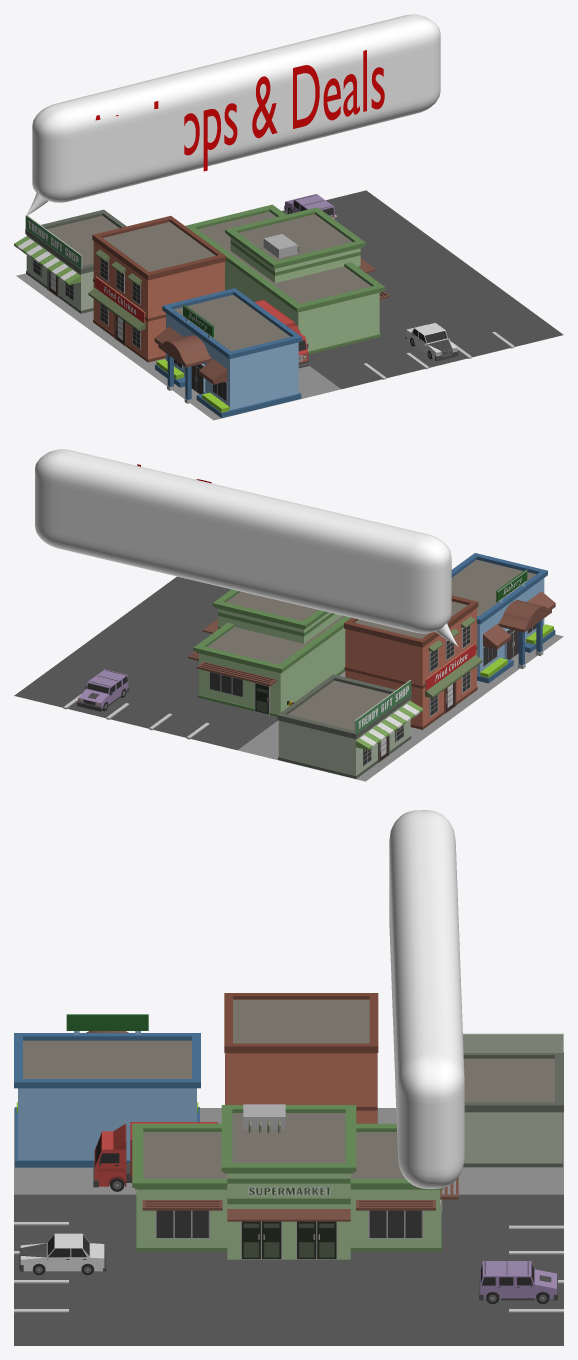
Rendered from supermarket1.glb.
3 renders of one model, top to bottom at view 1: azimuth 30°, elevation 25°; view 2: azimuth 150°, elevation 25°; view 3: azimuth 270°, elevation 25°, orthographic. The views are drawn at different scales.
Parts seen in each view (by area): view 1: Building_Chicken Shop_Cube.016, Mesh_0, text; view 2: Building_Chicken Shop_Cube.016, Mesh_0; view 3: Building_Chicken Shop_Cube.016, Mesh_0.
Part boxes in pixels (left/top/right/bottom): Building_Chicken Shop_Cube.016: left=14, top=190, right=563, bottom=420; Mesh_0: left=26, top=14, right=440, bottom=215; text: left=95, top=50, right=384, bottom=171; Building_Chicken Shop_Cube.016: left=14, top=553, right=563, bottom=781; Mesh_0: left=35, top=449, right=458, bottom=646; Building_Chicken Shop_Cube.016: left=14, top=993, right=563, bottom=1345; Mesh_0: left=389, top=810, right=464, bottom=1188.
Bounding box in the file's own units: 48.49 × 23.29 × 40.
15 materials, 13 textured.
